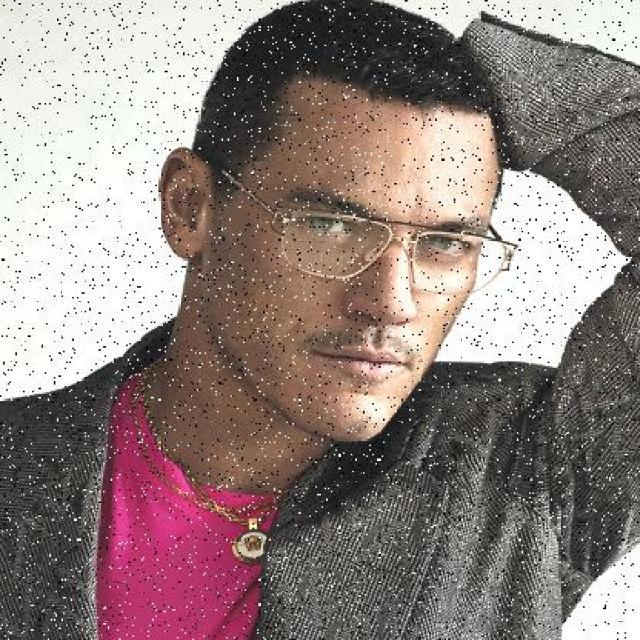mask: (248, 182, 524, 310)
